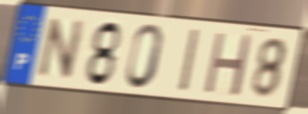0: (124, 22, 166, 92)
8: (84, 17, 123, 90), (250, 35, 289, 101)
H: (201, 30, 255, 99)
I: (177, 27, 202, 96)
N: (34, 16, 88, 81)
